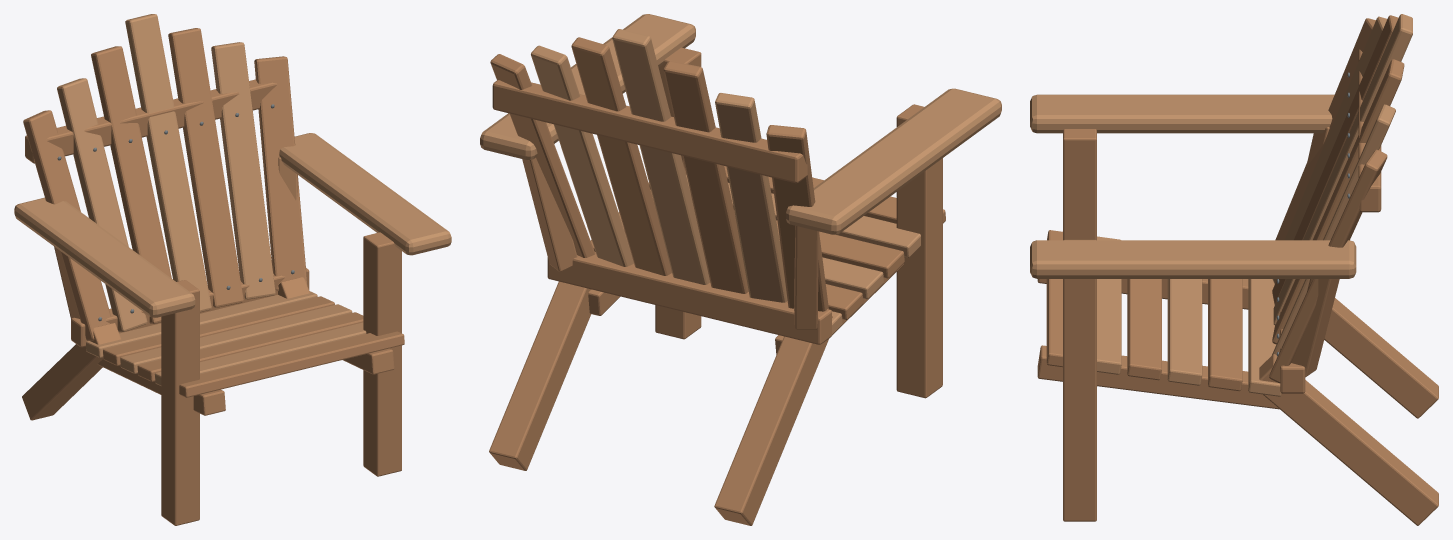
The model's file is lawn_chair_adirondack.glb.
3 renders of one model, left to right at view 1: azimuth 30°, elevation 25°; view 2: azimuth 150°, elevation 25°; view 3: azimuth 270°, elevation 25°, orthographic. The views are drawn at different scales.
Visible parts, largest first — view 1: Fan-shaped back slat.003, Fan-shaped back slat.004, Fan-shaped back slat.005, Front wooden leg, Wide flat wooden armrest, Front wooden leg.001, Wide flat wooden armrest.001, Fan-shaped back slat.002, Fan-shaped back slat.006, Fan-shaped back slat.001, Fan-shaped back slat, Cedar seat slat (+12 smaller); view 2: Wide flat wooden armrest, Front wooden leg, Backrest upper cross rail, Fan-shaped back slat.003, Backrest lower cross rail, Rear splayed leg, Rear splayed leg.001, Fan-shaped back slat.002, Fan-shaped back slat.004, Fan-shaped back slat.001, Fan-shaped back slat.005, Fan-shaped back slat.006 (+10 smaller); view 3: Wide flat wooden armrest.001, Wide flat wooden armrest, Front wooden leg.001, Rear splayed leg.001, Rear splayed leg, Cedar seat slat.004, Front wooden leg, Cedar seat slat.003, Seat side support.001, Cedar seat slat.002, Fan-shaped back slat.003, Fan-shaped back slat.006 (+12 smaller).
Part boxes in pixels (x1=…): Fan-shaped back slat.003: x1=125, y1=14, x2=211, y2=312; Fan-shaped back slat.004: x1=168, y1=28, x2=243, y2=307; Fan-shaped back slat.005: x1=211, y1=42, x2=275, y2=299; Front wooden leg: x1=161, y1=280, x2=199, y2=525; Wide flat wooden armrest: x1=14, y1=197, x2=195, y2=317; Front wooden leg.001: x1=363, y1=232, x2=401, y2=476; Wide flat wooden armrest.001: x1=279, y1=133, x2=451, y2=255; Fan-shaped back slat.002: x1=91, y1=46, x2=171, y2=323; Fan-shaped back slat.006: x1=254, y1=56, x2=307, y2=290; Fan-shaped back slat.001: x1=57, y1=78, x2=147, y2=332; Fan-shaped back slat: x1=23, y1=110, x2=110, y2=340; Cedar seat slat: x1=179, y1=331, x2=404, y2=397; Wide flat wooden armrest: x1=786, y1=88, x2=1001, y2=234; Front wooden leg: x1=896, y1=104, x2=942, y2=398; Backrest upper cross rail: x1=492, y1=80, x2=807, y2=183; Fan-shaped back slat.003: x1=612, y1=29, x2=710, y2=284; Backrest lower cross rail: x1=547, y1=252, x2=831, y2=344; Rear splayed leg: x1=714, y1=316, x2=832, y2=525; Rear splayed leg.001: x1=489, y1=252, x2=595, y2=470; Fan-shaped back slat.002: x1=663, y1=61, x2=748, y2=293; Fan-shaped back slat.004: x1=571, y1=37, x2=671, y2=275; Fan-shaped back slat.001: x1=715, y1=93, x2=787, y2=302; Fan-shaped back slat.005: x1=531, y1=45, x2=633, y2=266; Fan-shaped back slat.006: x1=490, y1=54, x2=595, y2=257; Wide flat wooden armrest.001: x1=1030, y1=240, x2=1356, y2=278; Wide flat wooden armrest: x1=1030, y1=94, x2=1334, y2=133; Front wooden leg.001: x1=1063, y1=239, x2=1096, y2=521; Rear splayed leg.001: x1=1259, y1=354, x2=1438, y2=525; Rear splayed leg: x1=1324, y1=298, x2=1438, y2=418; Cedar seat slat.004: x1=1208, y1=279, x2=1242, y2=391; Front wooden leg: x1=1063, y1=129, x2=1096, y2=240; Cedar seat slat.003: x1=1167, y1=279, x2=1202, y2=385; Seat side support.001: x1=1037, y1=345, x2=1279, y2=409; Cedar seat slat.002: x1=1127, y1=279, x2=1161, y2=380; Fan-shaped back slat.003: x1=1273, y1=14, x2=1412, y2=325; Fan-shaped back slat.006: x1=1269, y1=149, x2=1387, y2=383.
Bounding box in the file's own units: 0.895 × 1.08 × 0.9023.
